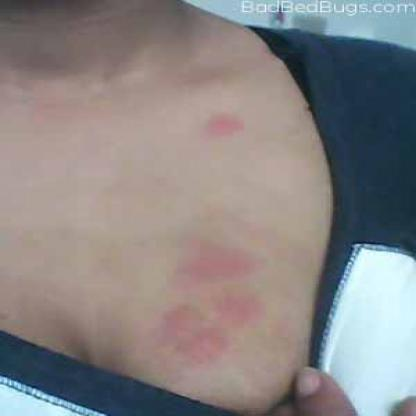Bed Bug: (142, 293, 282, 358), (151, 236, 266, 289), (191, 107, 251, 138)
